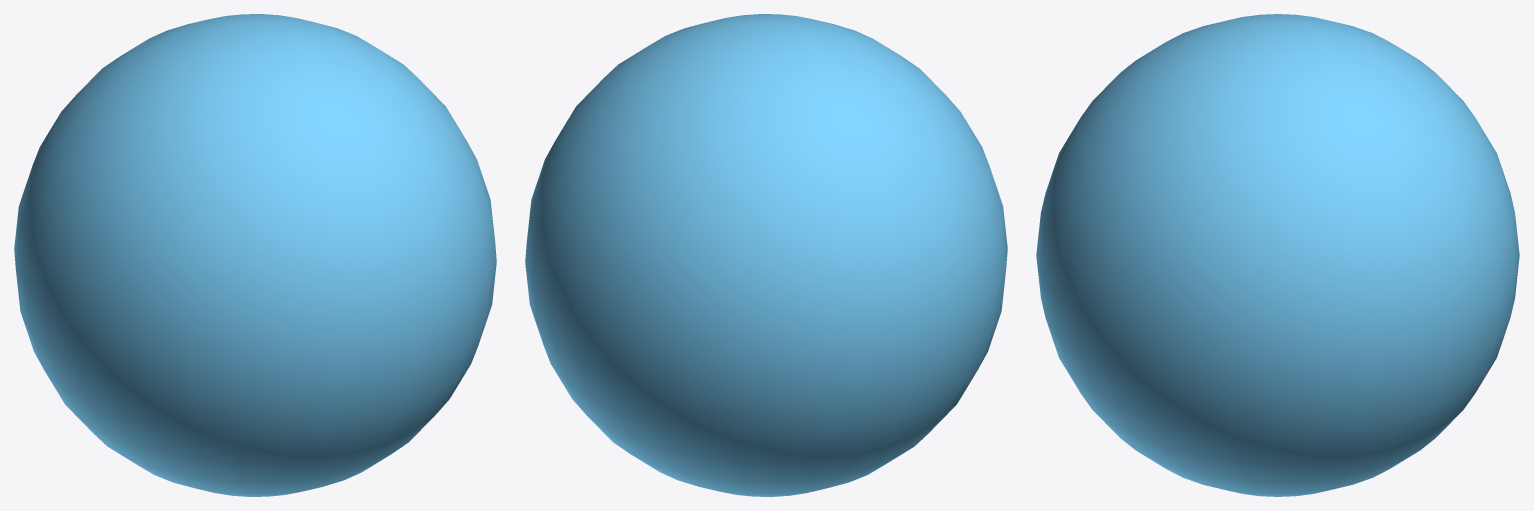
Rendered from Medieval.fbx.
The picture shows the model from 3 angles, left to right: view 1: azimuth 30°, elevation 25°; view 2: azimuth 150°, elevation 25°; view 3: azimuth 270°, elevation 25°; orthographic projection.
Parts seen in each view (by area): view 1: Sky; view 2: Sky; view 3: Sky.
Boxes of the visible parts, x1,y1,x2,y2 form: Sky: (14,14,496,496); Sky: (525,14,1007,496); Sky: (1036,14,1519,496).
Bounding box in the file's own units: 67889 × 67889 × 67889.
